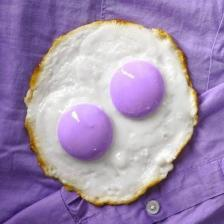purple: (0, 0, 224, 224), (110, 60, 166, 119), (57, 103, 113, 161)
